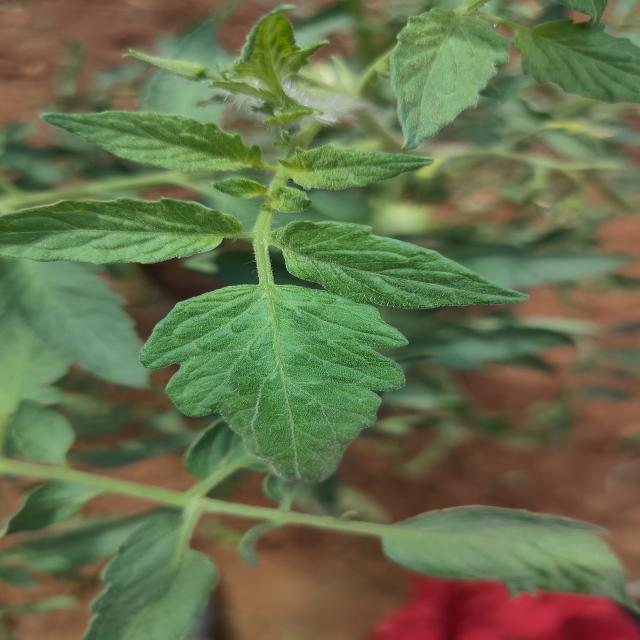tomato_healthy: (131, 282, 406, 507), (270, 220, 529, 316), (0, 197, 245, 274), (46, 104, 277, 183), (270, 141, 456, 192)
